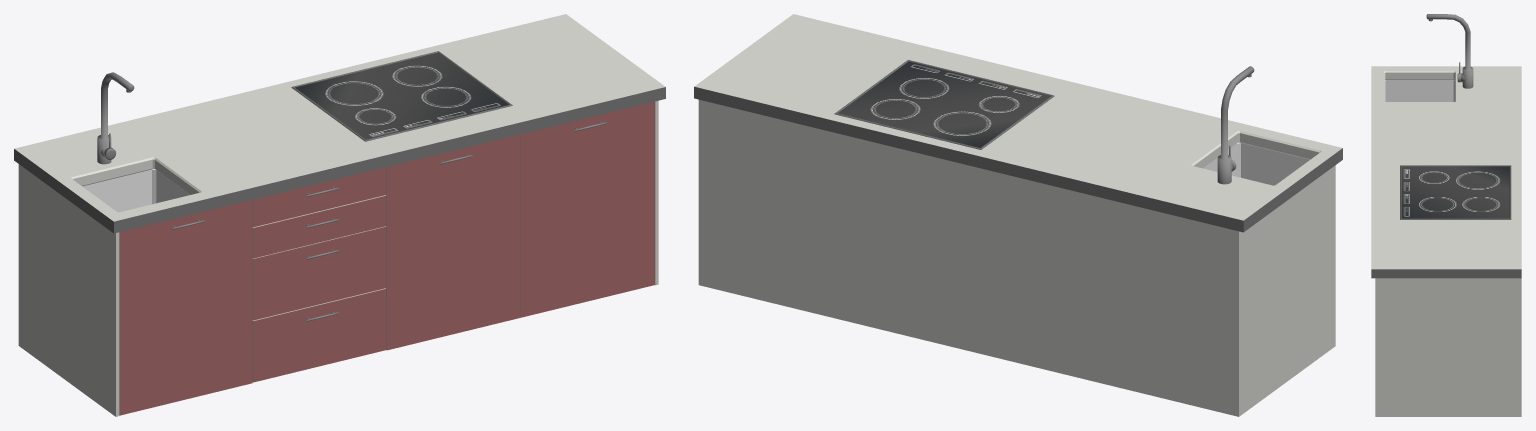
Rendered from kitchen_module.glb.
The picture shows the model from 3 angles, left to right: view 1: azimuth 30°, elevation 25°; view 2: azimuth 150°, elevation 25°; view 3: azimuth 270°, elevation 25°; orthographic projection. The views are drawn at different scales.
Visible parts, largest first — view 1: mesa_cocina_Cube, vitroceramica_Cube.001, grifo_cocina_Cylinder, mesa_cocina.001_Cube.002; view 2: mesa_cocina_Cube, vitroceramica_Cube.001, grifo_cocina_Cylinder; view 3: mesa_cocina_Cube, vitroceramica_Cube.001, grifo_cocina_Cylinder.
Boxes of the visible parts, <box> form: mesa_cocina_Cube: <box>14,14,665,416</box>; vitroceramica_Cube.001: <box>291,51,512,141</box>; grifo_cocina_Cylinder: <box>97,72,134,164</box>; mesa_cocina.001_Cube.002: <box>171,121,606,321</box>; mesa_cocina_Cube: <box>694,14,1342,416</box>; vitroceramica_Cube.001: <box>834,60,1054,149</box>; grifo_cocina_Cylinder: <box>1217,66,1254,184</box>; mesa_cocina_Cube: <box>1371,66,1521,416</box>; vitroceramica_Cube.001: <box>1400,165,1511,219</box>; grifo_cocina_Cylinder: <box>1426,14,1473,88</box>.
Size of the model in its own units: 34.38 by 17.52 by 10.76.
8 materials, 1 textured.
